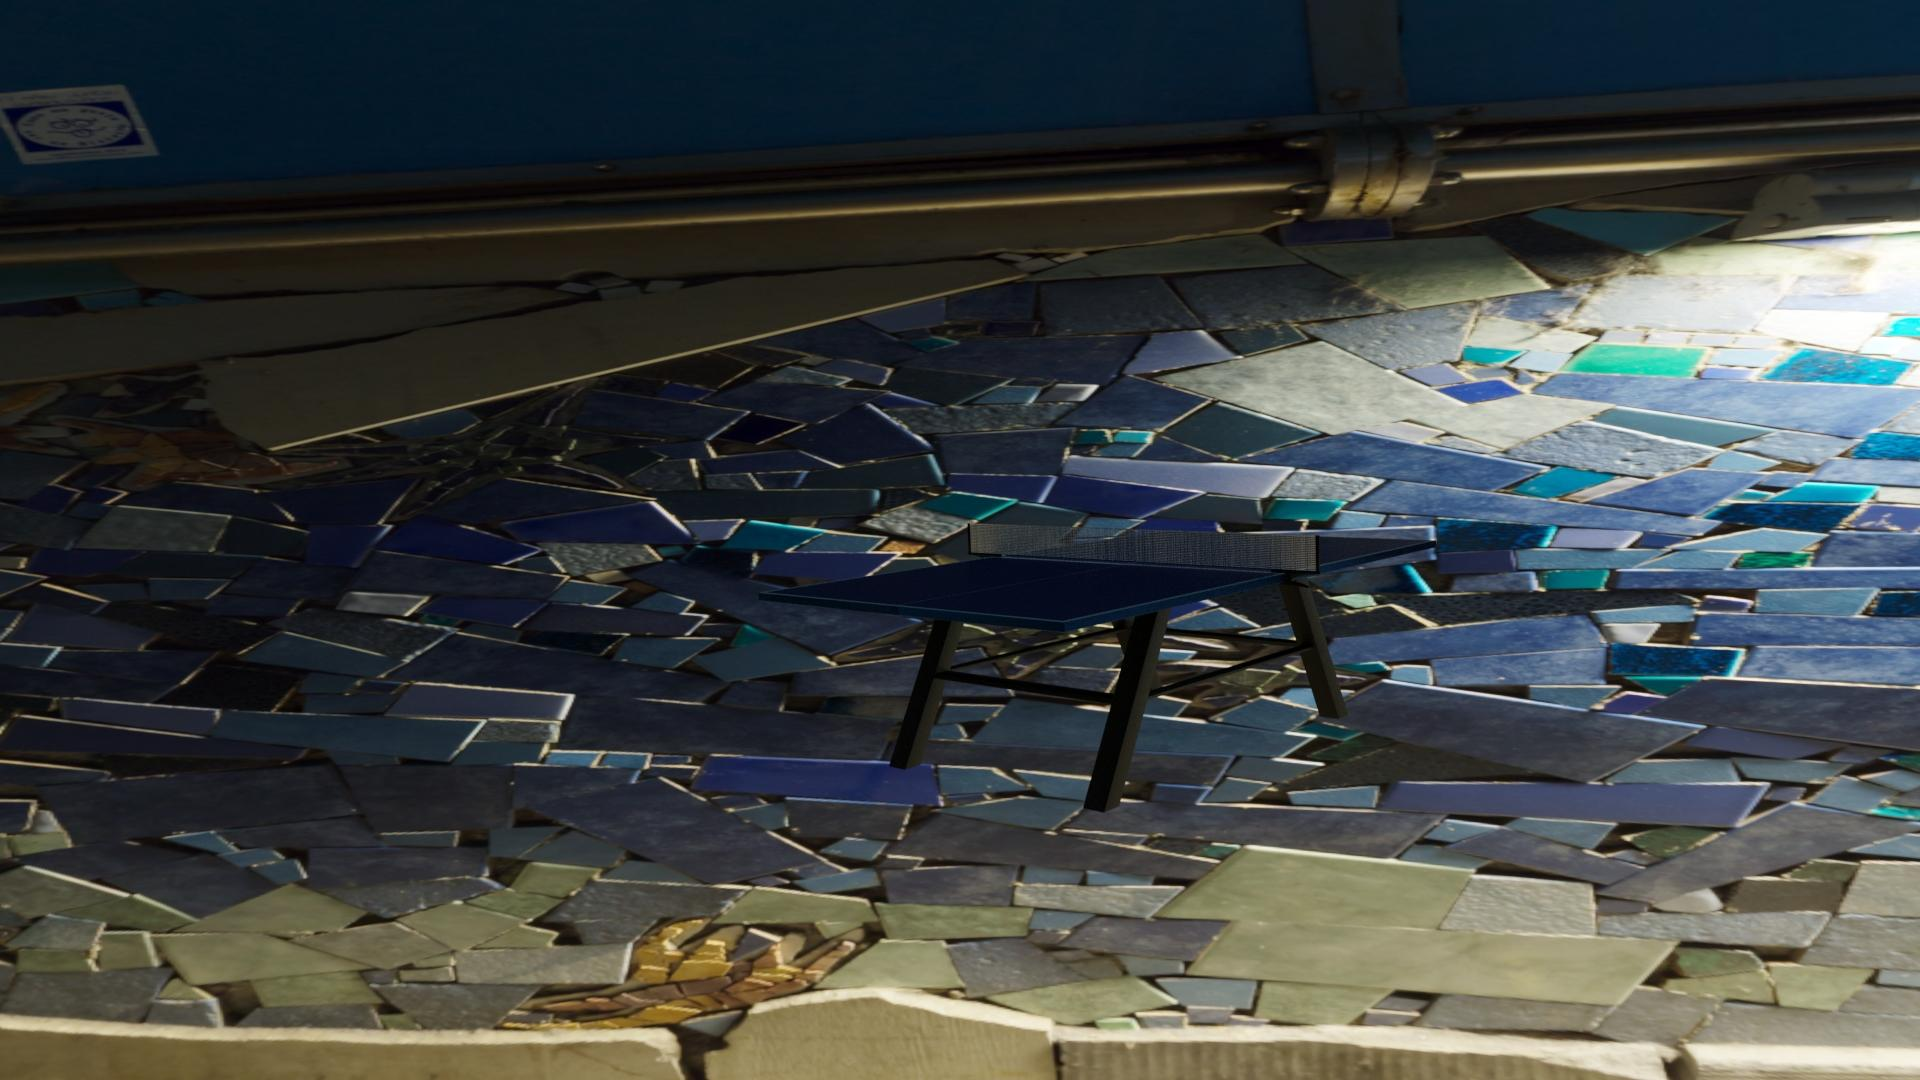table: (765, 531, 1431, 621)
